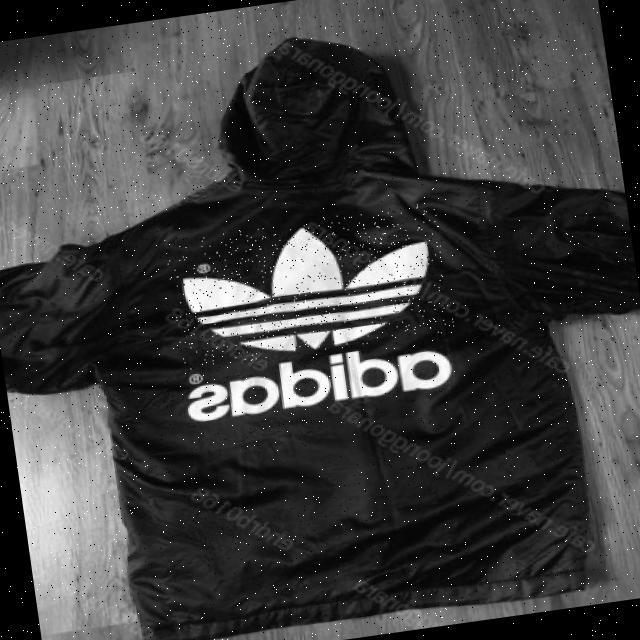Adidas: (164, 202, 455, 371)
